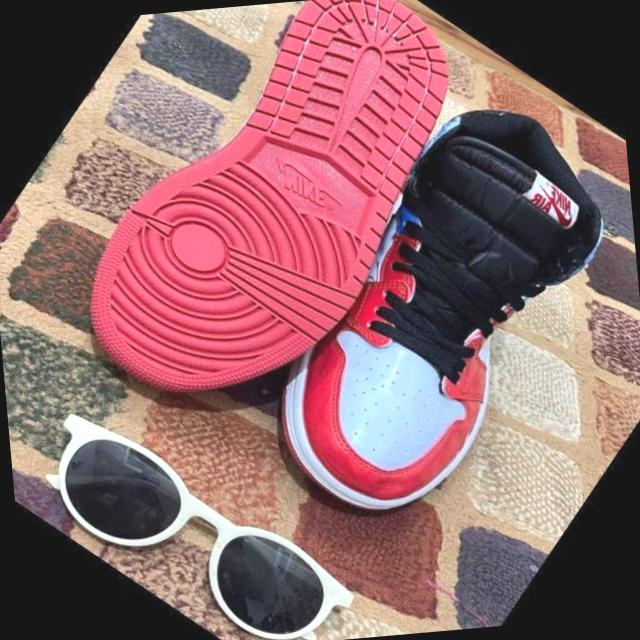nike_fake_jordan: (206, 63, 640, 554)
